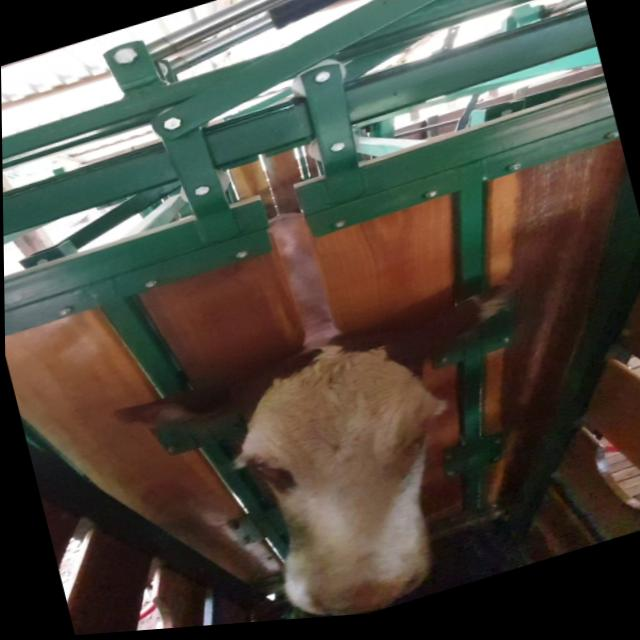cowFace: (216, 323, 477, 628)
